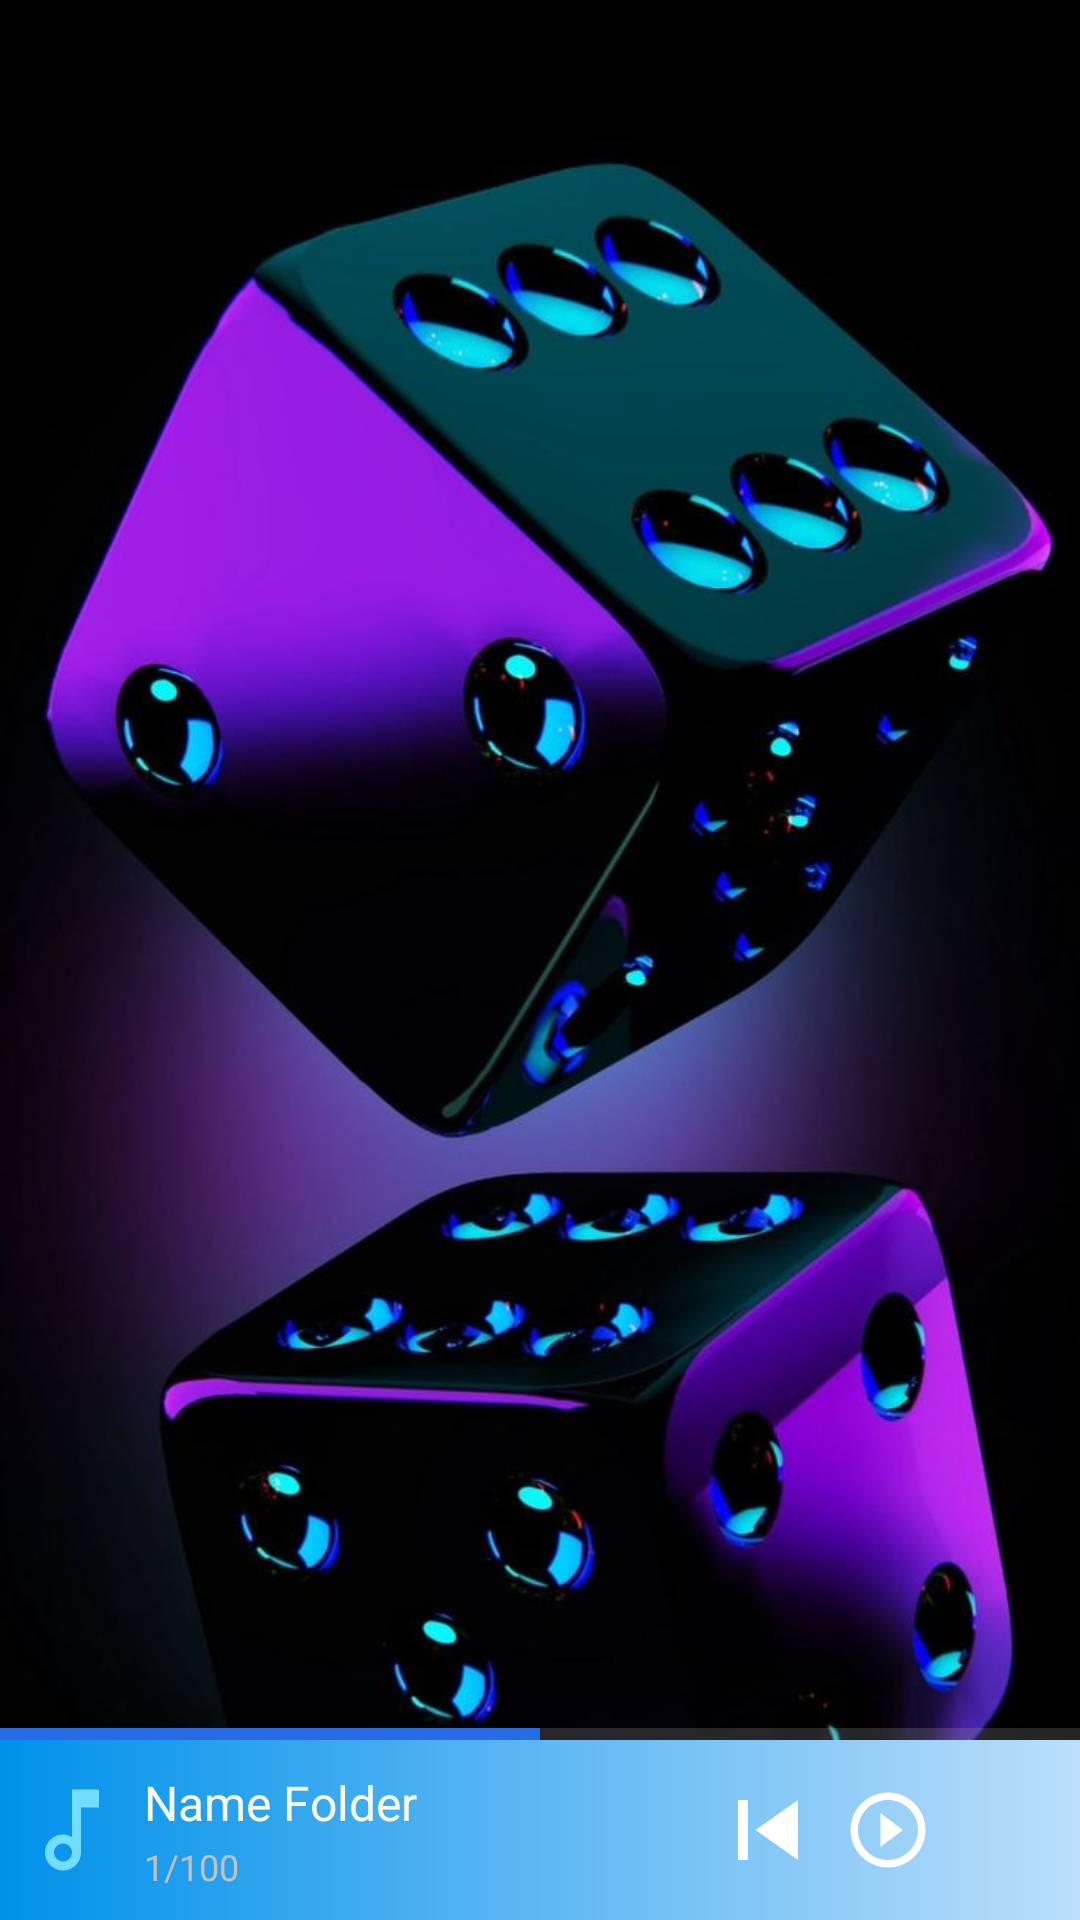

Screen size 1080px x 1920px. Icon name, then its box in pixels as (x1, y1, x2, y2):
music image: (12, 1770, 99, 1890)
Music Play or Pause: (828, 1770, 926, 1890)
Play Previous Music: (738, 1800, 798, 1860)
